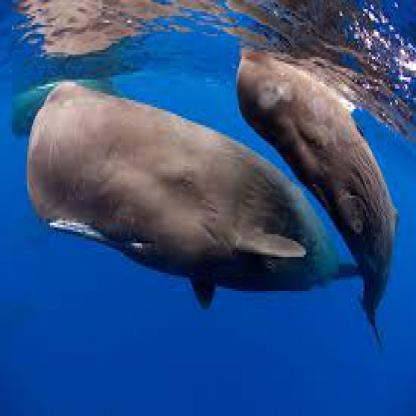sperm_whale: (15, 73, 347, 348), (232, 38, 414, 346)
